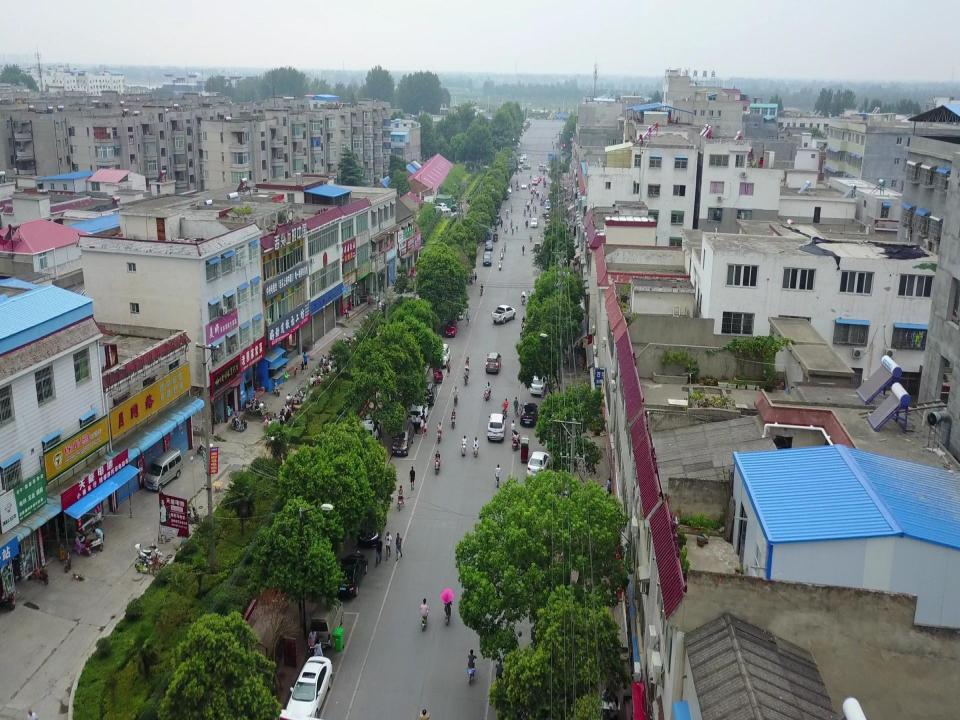car: (283, 656, 333, 720), (333, 553, 368, 599), (356, 499, 388, 549), (392, 419, 414, 456), (526, 451, 550, 480), (357, 417, 382, 442), (487, 412, 507, 442), (407, 400, 429, 426), (416, 381, 437, 407), (520, 401, 538, 428), (530, 372, 548, 396), (432, 343, 450, 367), (486, 351, 502, 374), (445, 319, 457, 338), (452, 304, 466, 320), (482, 250, 492, 266), (450, 211, 464, 221), (449, 204, 463, 213), (491, 214, 502, 225), (434, 203, 447, 211), (530, 218, 540, 228), (485, 239, 494, 250), (520, 163, 532, 170), (498, 194, 509, 201), (531, 186, 537, 194), (514, 165, 523, 170), (505, 187, 512, 193), (521, 182, 527, 189), (532, 178, 538, 185), (536, 175, 541, 180), (535, 176, 539, 182), (523, 154, 527, 159)
truck: (491, 304, 516, 325)
van: (308, 595, 344, 649), (143, 447, 183, 493), (438, 208, 452, 219), (538, 164, 548, 172), (519, 157, 523, 163)
